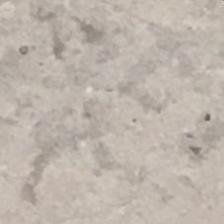Non_Crack: (10, 51, 214, 176)
